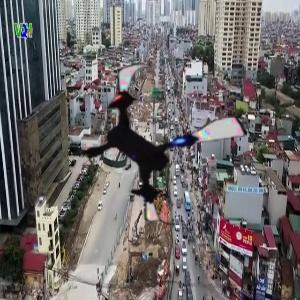drone: (73, 55, 249, 231)
